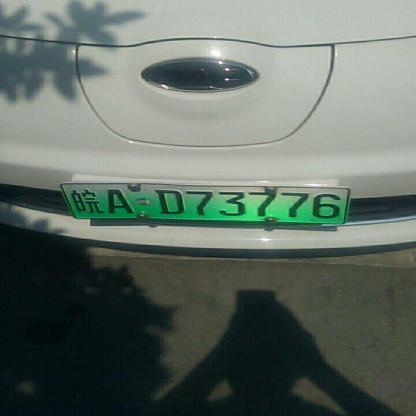lp: (61, 185, 350, 222)
